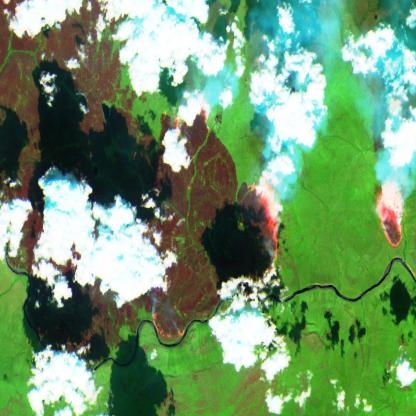fire: (246, 174, 290, 288), (372, 186, 406, 254), (160, 98, 212, 138), (149, 308, 190, 344)
